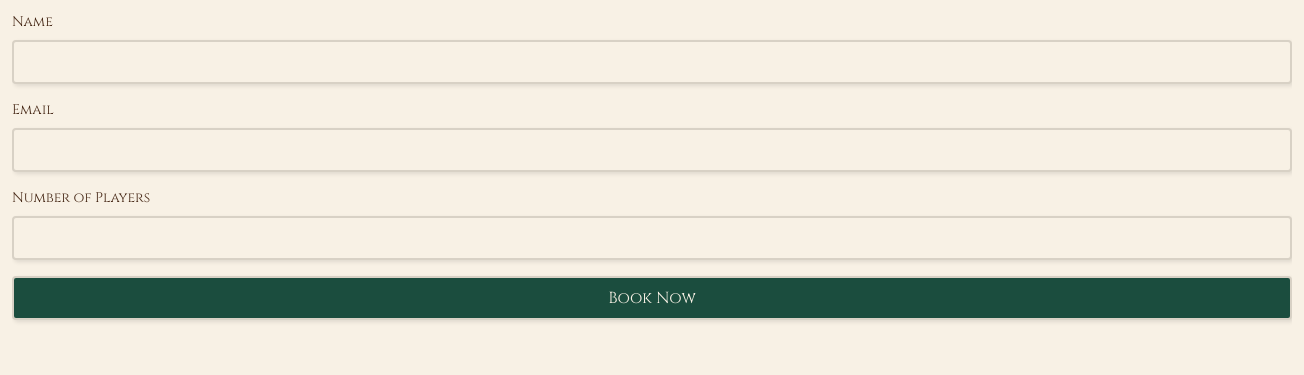
Test case: BookingForm › handles form submission error
Type "John Doe" into the field labelled "Name".
click(652, 62); type("John Doe")  # box x1=12 y1=40 x2=1292 y2=84
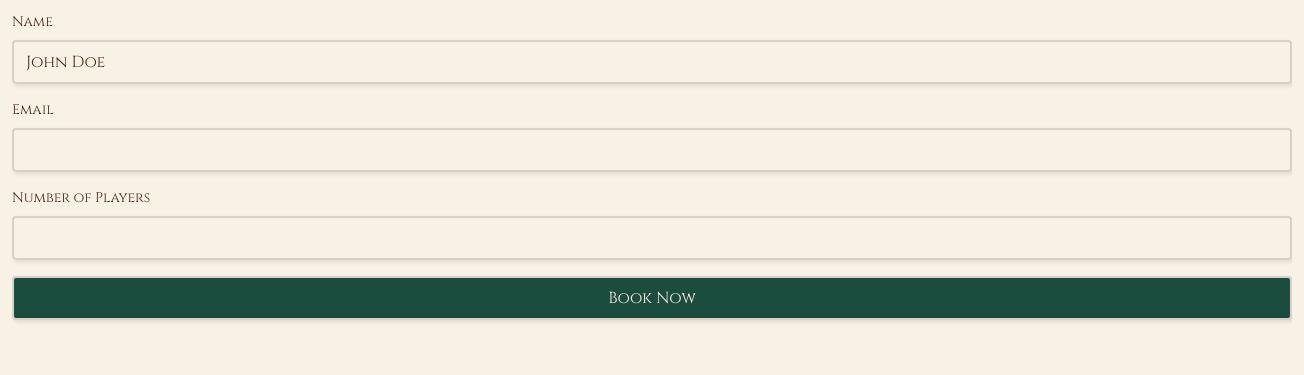
Type "john@example.com" into the field labelled "Email".
click(652, 150); type("john@example.com")  # box x1=12 y1=128 x2=1292 y2=172
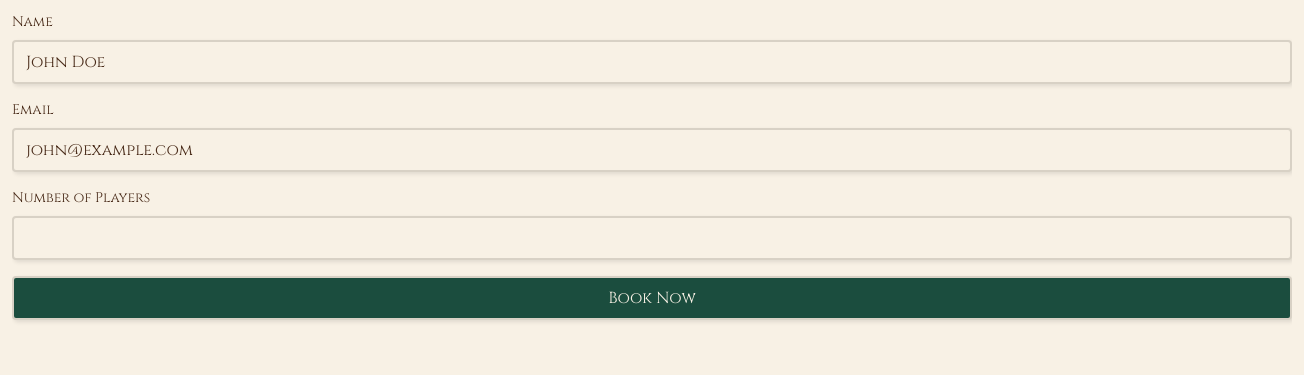
Type "4" into the number field labelled "Number of Players".
click(652, 238); type("4")  # box x1=12 y1=216 x2=1292 y2=260
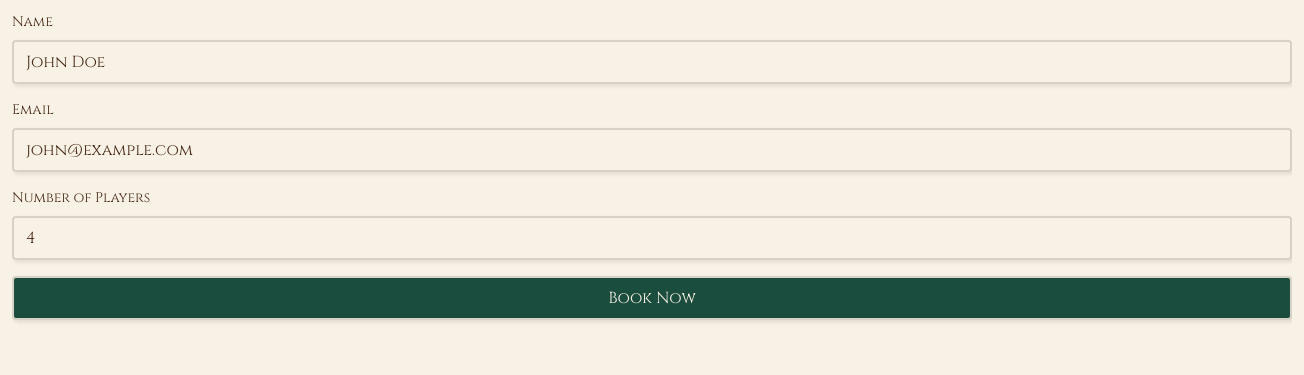
Click the button "Book Now".
click(652, 298)  # box x1=12 y1=276 x2=1292 y2=320
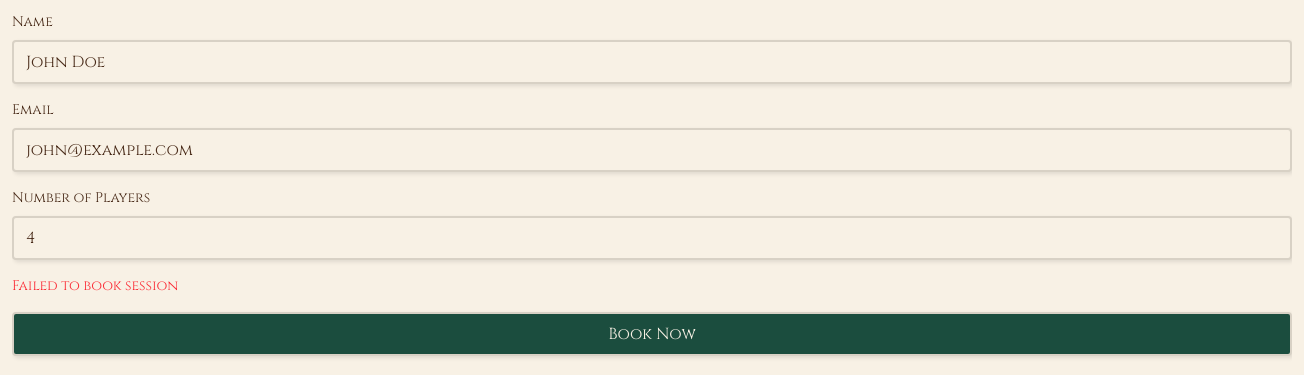
expect the text "Failed to book session" is shown: met, box x1=12 y1=276 x2=178 y2=295
